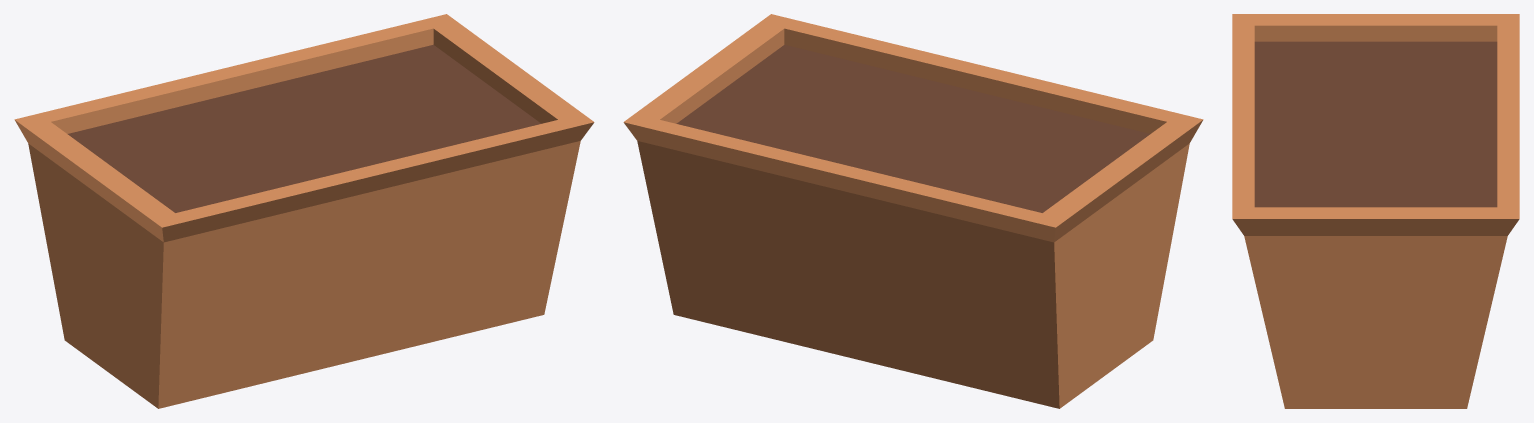
File: MacetaLarga.fbx
3 views of the same model, side by side, from view 1: azimuth 30°, elevation 25°; view 2: azimuth 150°, elevation 25°; view 3: azimuth 270°, elevation 25° (orthographic). The views are drawn at different scales.
Visible parts, largest first — view 1: Maceton; view 2: Maceton; view 3: Maceton.
Part boxes in pixels (x1,y1,x2,y2): Maceton: [14, 14, 594, 408]; Maceton: [623, 14, 1203, 408]; Maceton: [1232, 14, 1519, 408].
Bounding box in the file's own units: 74.59 × 34.08 × 44.16.
